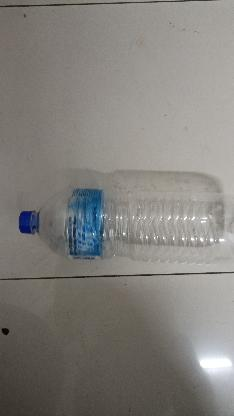Plastic Bottle: (19, 184, 233, 263)
